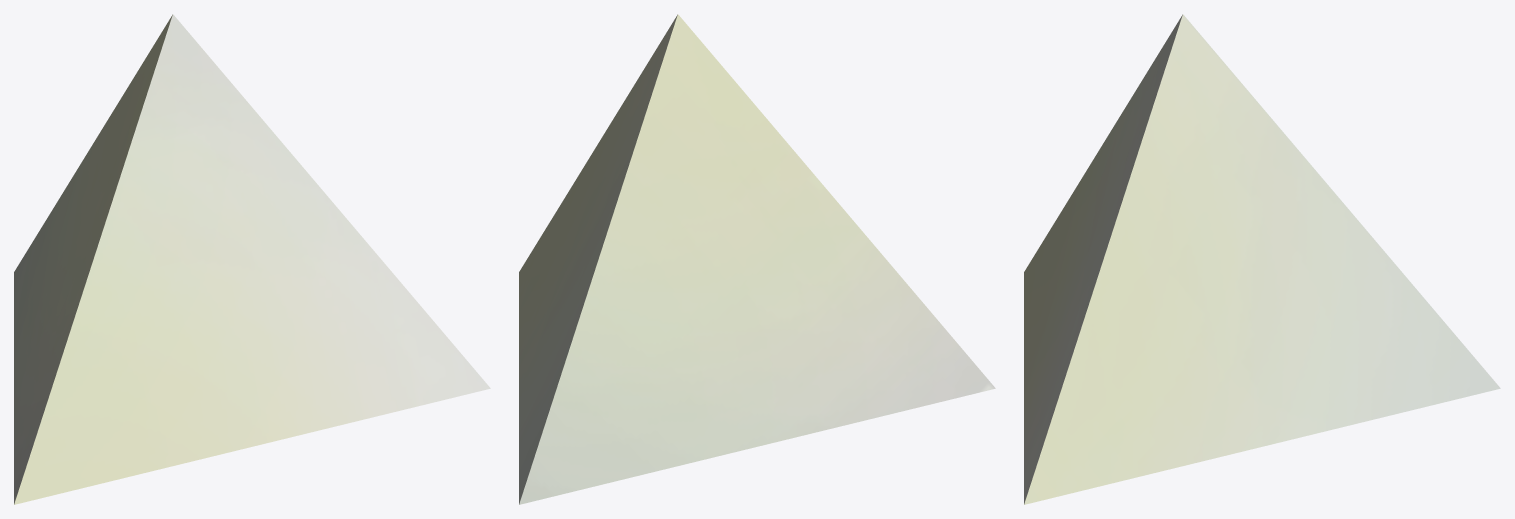
Rendered from Dandelion_bud.glb.
3 views of the same model, side by side, from view 1: azimuth 30°, elevation 25°; view 2: azimuth 150°, elevation 25°; view 3: azimuth 270°, elevation 25° (orthographic).
Parts seen in each view (by area): view 1: Dandelion_bud; view 2: Dandelion_bud; view 3: Dandelion_bud.
Boxes of the visible parts, bbox=[...] form: Dandelion_bud: bbox=[14, 14, 490, 504]; Dandelion_bud: bbox=[519, 14, 995, 504]; Dandelion_bud: bbox=[1024, 14, 1500, 504].
Bounding box in the file's own units: 0.1732 × 0.13 × 0.15.
1 material, 1 textured.
